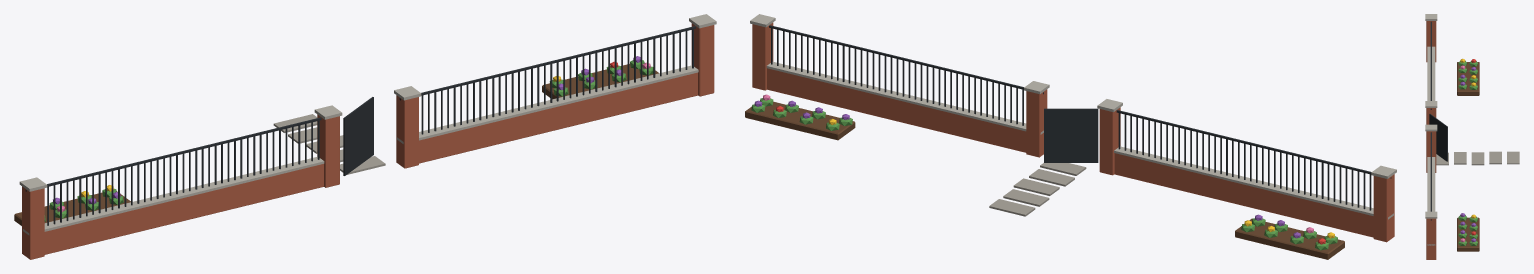
Rendered from Yard_Bars_13.fbx.
The picture shows the model from 3 angles, left to right: view 1: azimuth 30°, elevation 25°; view 2: azimuth 150°, elevation 25°; view 3: azimuth 270°, elevation 25°; orthographic projection. The views are drawn at different scales.
Parts seen in each view (by area): view 1: Yard_Bars_13; view 2: Yard_Bars_13; view 3: Yard_Bars_13.
Boxes of the visible parts, x1,y1,x2,y2 form: Yard_Bars_13: (14,14,716,259); Yard_Bars_13: (745,14,1396,259); Yard_Bars_13: (1425,14,1519,259).
Bounding box in the file's own units: 14.93 × 1.5 × 2.94.
